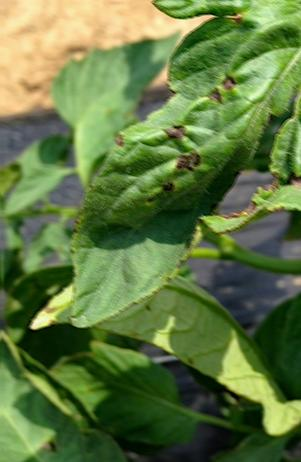Tomato leaf bacterial spot: (67, 0, 301, 335)
